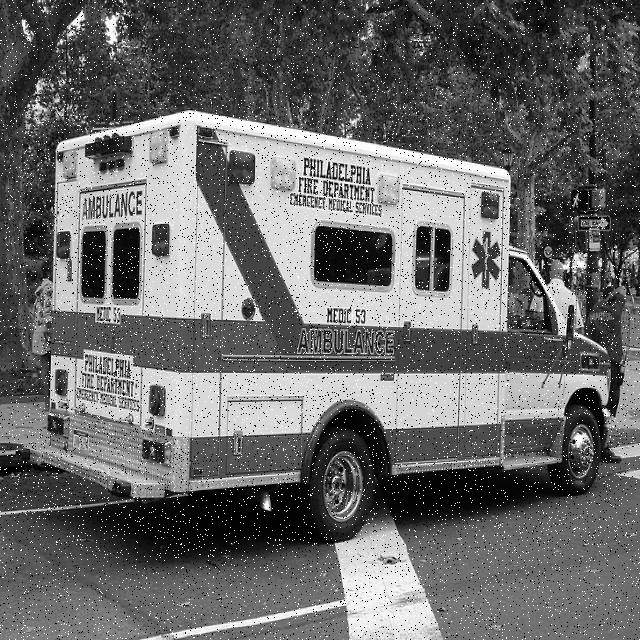Ambulance: (11, 111, 617, 545)
